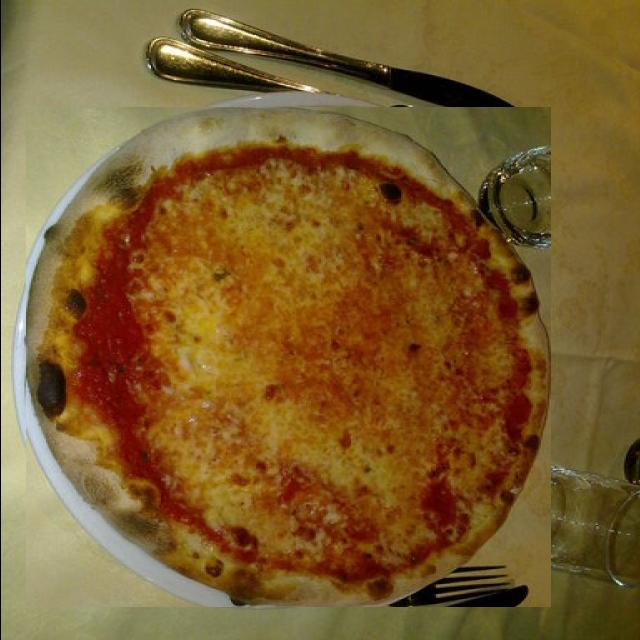pizza: (25, 107, 550, 607)
